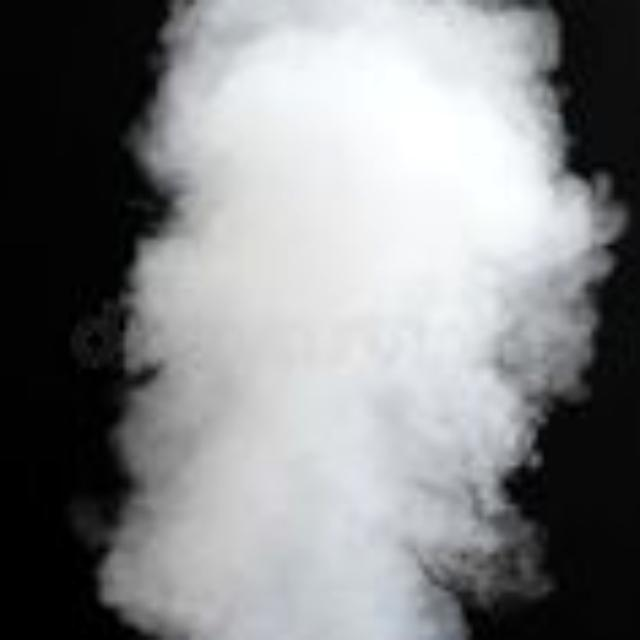smoke: (100, 0, 625, 640)
